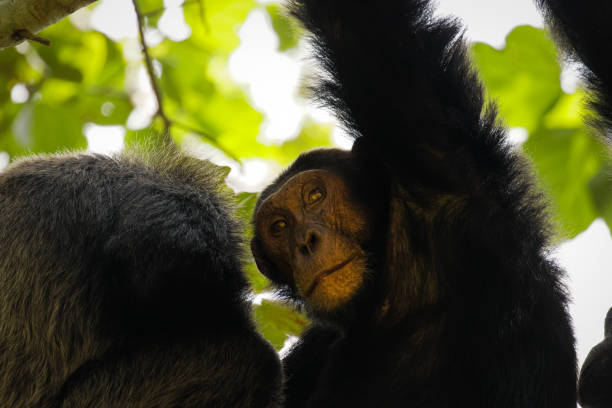chimpanzee: (222, 130, 406, 333)
